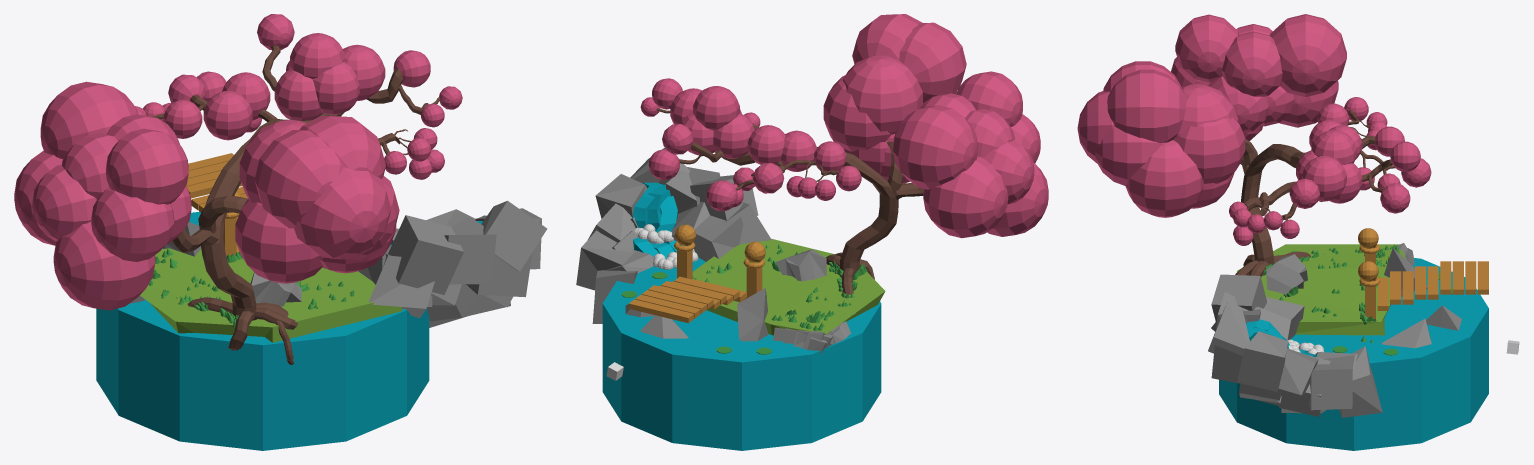
The picture shows the model from 3 angles, left to right: view 1: azimuth 30°, elevation 25°; view 2: azimuth 150°, elevation 25°; view 3: azimuth 270°, elevation 25°; orthographic projection. The views are drawn at different scales.
Visible parts, largest first — view 1: node_MeshObject-1714635776-PolyPaper7, node_MeshObject1591705600-PolyPaper19, node_MeshObject-570477568-PolyPaper10, node_MeshObject-1142556672-PolyPaper10; view 2: node_MeshObject1591705600-PolyPaper19, node_MeshObject-1714635776-PolyPaper7, node_MeshObject-570477568-PolyPaper10, node_MeshObject-1142556672-PolyPaper10, node_MeshObject1601536-PolyPaper10; view 3: node_MeshObject-1714635776-PolyPaper7, node_MeshObject1591705600-PolyPaper19, node_MeshObject-570477568-PolyPaper10, node_MeshObject-1142556672-PolyPaper10, node_MeshObject1601536-PolyPaper10.
Part boxes in pixels (<box>): node_MeshObject-1714635776-PolyPaper7: <box>14,14,463,364</box>; node_MeshObject1591705600-PolyPaper19: <box>32,45,440,450</box>; node_MeshObject-570477568-PolyPaper10: <box>129,153,547,327</box>; node_MeshObject-1142556672-PolyPaper10: <box>148,249,257,309</box>; node_MeshObject1591705600-PolyPaper19: <box>602,108,1034,450</box>; node_MeshObject-1714635776-PolyPaper7: <box>640,14,1048,294</box>; node_MeshObject-570477568-PolyPaper10: <box>576,148,851,354</box>; node_MeshObject-1142556672-PolyPaper10: <box>692,261,855,330</box>; node_MeshObject1601536-PolyPaper10: <box>606,272,771,380</box>; node_MeshObject-1714635776-PolyPaper7: <box>1077,14,1431,324</box>; node_MeshObject1591705600-PolyPaper19: <box>1219,24,1488,450</box>; node_MeshObject-570477568-PolyPaper10: <box>1208,243,1488,417</box>; node_MeshObject-1142556672-PolyPaper10: <box>1262,244,1399,320</box>; node_MeshObject1601536-PolyPaper10: <box>1331,273,1519,355</box>.
Bounding box in the file's own units: 3.38 × 2.37 × 3.18.
